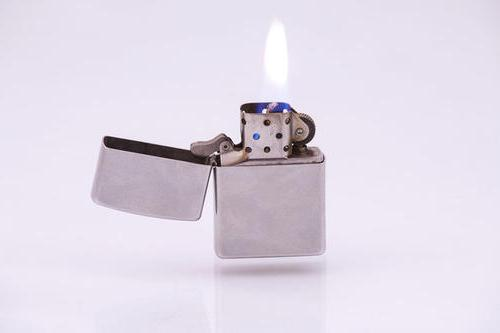fire: (256, 14, 303, 99)
